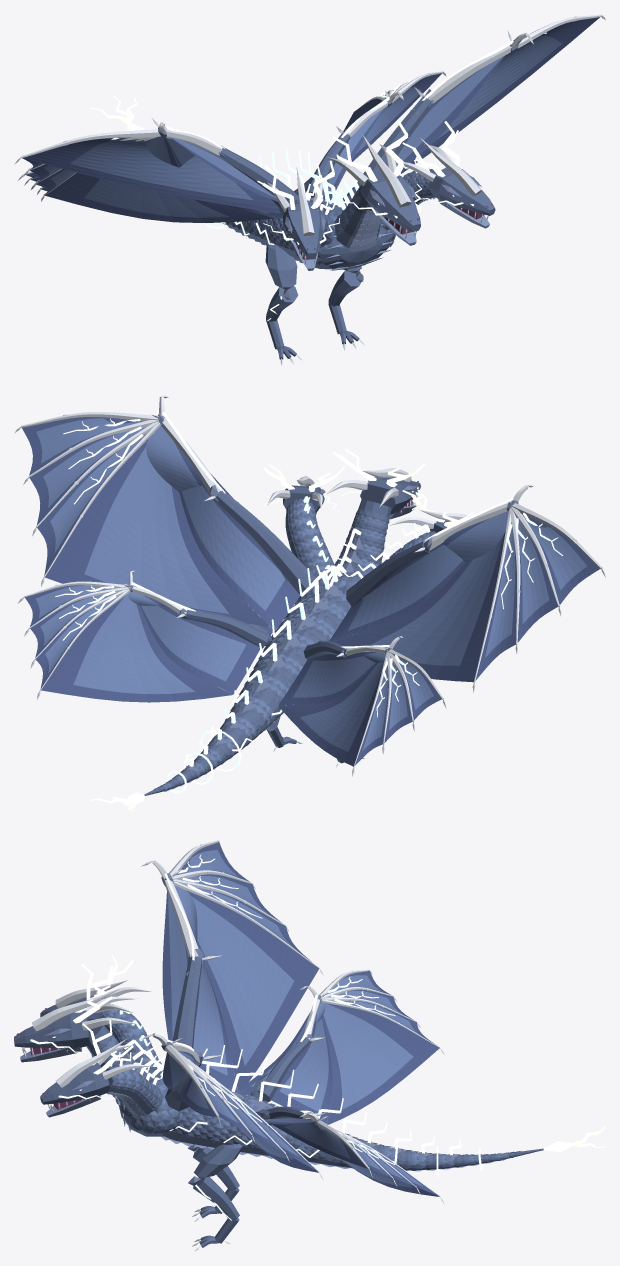
The model's file is Wyverne_Tempete_v4.glb.
3 renders of one model, top to bottom at view 1: azimuth 30°, elevation 25°; view 2: azimuth 150°, elevation 25°; view 3: azimuth 270°, elevation 25°, orthographic. The views are drawn at different scales.
Visible parts, largest first — view 1: Membrane, Body, Membrane2, Horns, Bolt, Bolt2, Belly, Scales, Plates; view 2: Membrane, Membrane2, Body, Horns, Bolt, Scales, Plates, Bolt2; view 3: Membrane, Body, Membrane2, Horns, Bolt, Scales, Bolt2, Belly, Plates.
Boxes of the visible parts, x1,y1,x2,y2 form: Membrane: (41, 35, 562, 217); Body: (219, 96, 495, 359); Membrane2: (22, 17, 599, 223); Horns: (14, 14, 605, 365); Bolt: (111, 32, 546, 320); Bolt2: (90, 95, 460, 209); Belly: (222, 197, 489, 270); Scales: (229, 172, 426, 253); Plates: (158, 40, 518, 299); Membrane: (35, 418, 586, 751); Membrane2: (22, 417, 599, 766); Body: (144, 477, 450, 795); Horns: (14, 395, 605, 776); Bolt: (55, 412, 562, 793); Scales: (160, 502, 429, 790); Plates: (128, 413, 518, 770); Bolt2: (90, 449, 473, 811); Membrane: (168, 849, 423, 1187); Body: (14, 956, 543, 1247); Membrane2: (162, 842, 439, 1196); Horns: (22, 840, 444, 1251); Bolt: (30, 855, 482, 1220); Scales: (93, 1009, 509, 1170); Bolt2: (73, 955, 605, 1152); Belly: (20, 1046, 506, 1171); Plates: (43, 873, 459, 1186).
Size of the model in its own units: 94.65 by 44.85 by 84.33.
